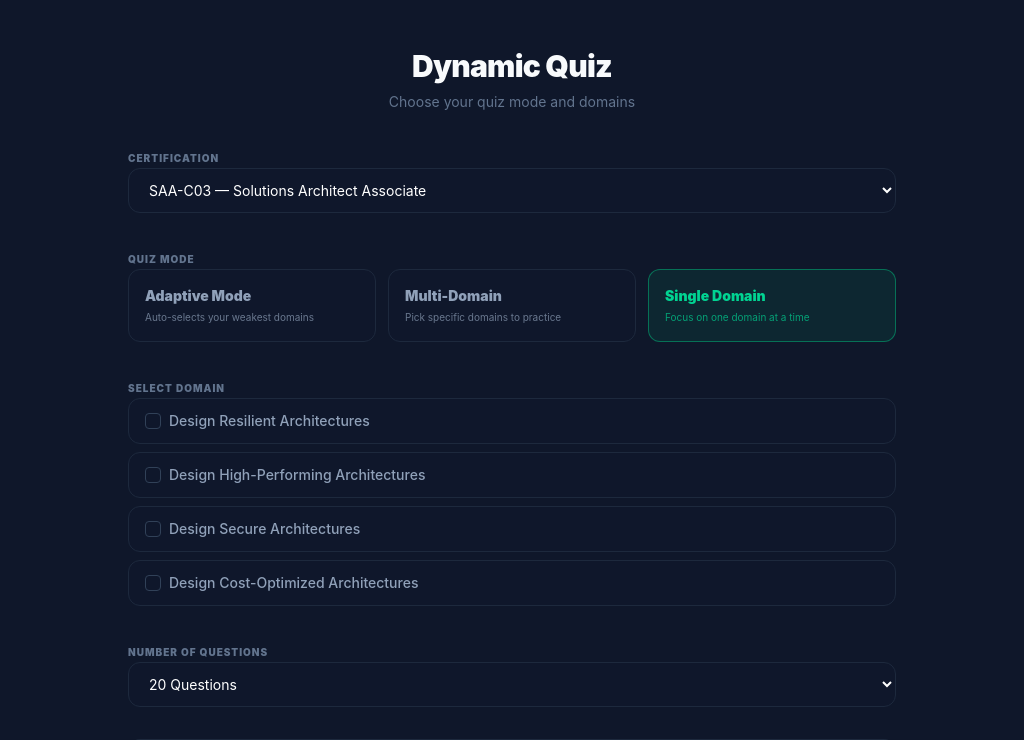
Test: DynamicQuiz - Adaptive Mode › Certification selector › allows changing certification and resets domain selection
The image size is (1024, 740).
Switch to multi-domain mode
Step 1. Click the button "Multi-Domain" → point(512, 306), box [388,269,636,342]
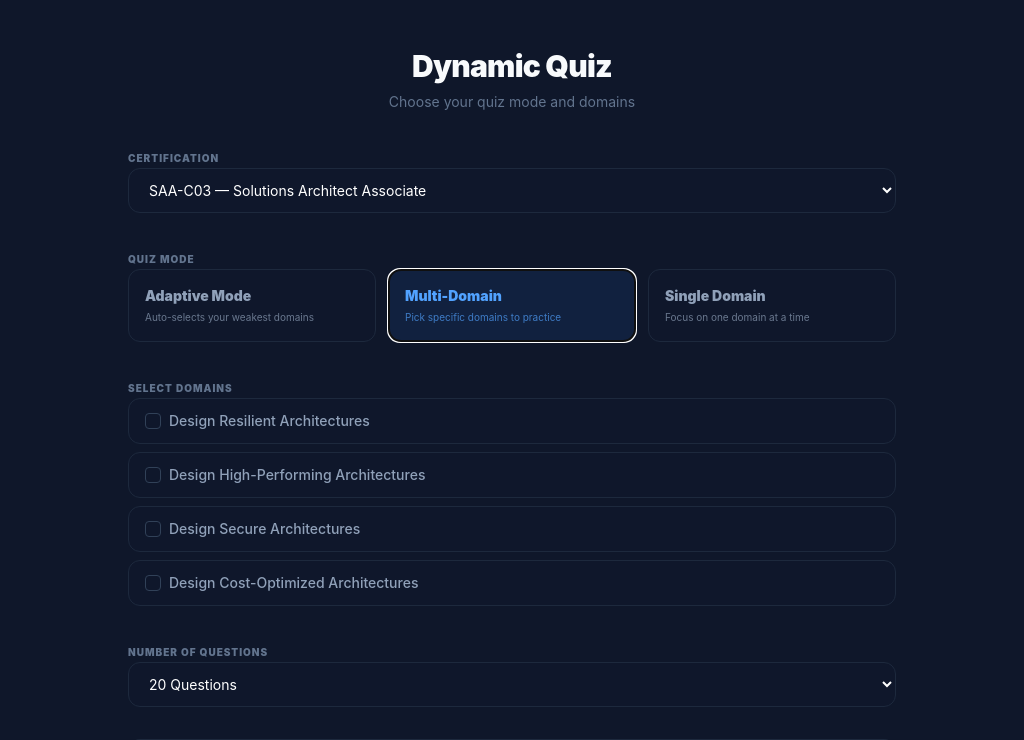
Select a domain
Step 2. Click the button "Design Resilient Architectures" → point(269, 420), box [128,398,896,444]
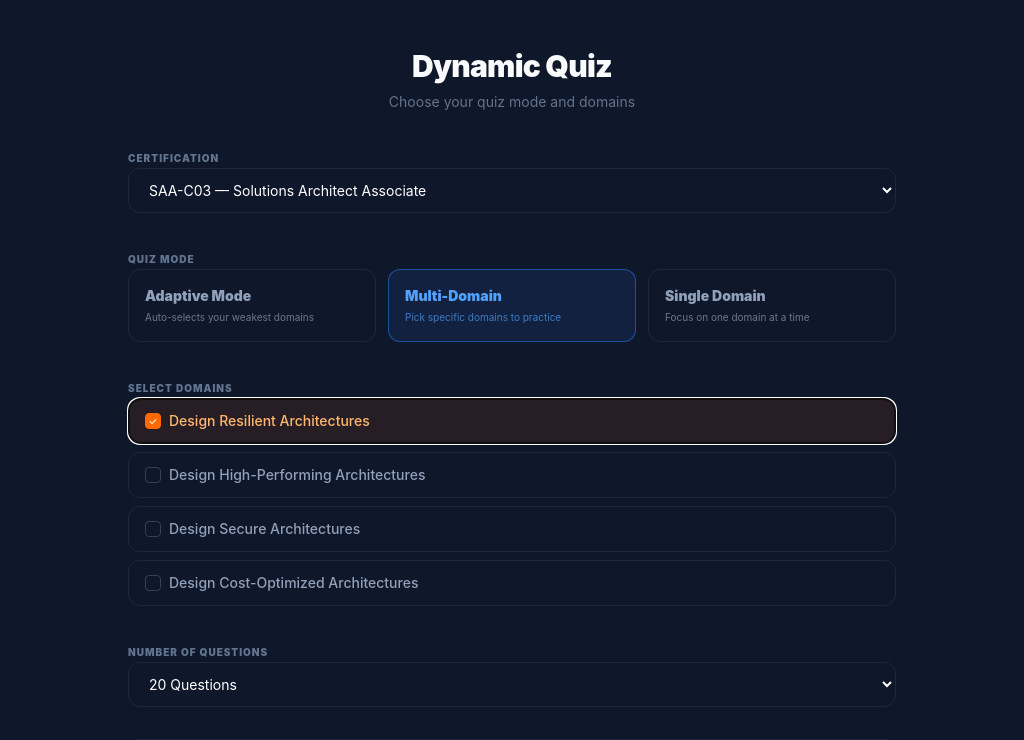
expect the button "✓ Design Resilient Architectures" has class "bg-orange-500/10": met, box [128,398,896,444]
Change certification
Step 3. Select "CLF-C02 — Cloud Practitioner" in the dropdown showing "SAA-C03" below "Certification" → point(512, 190), box [128,168,896,213]
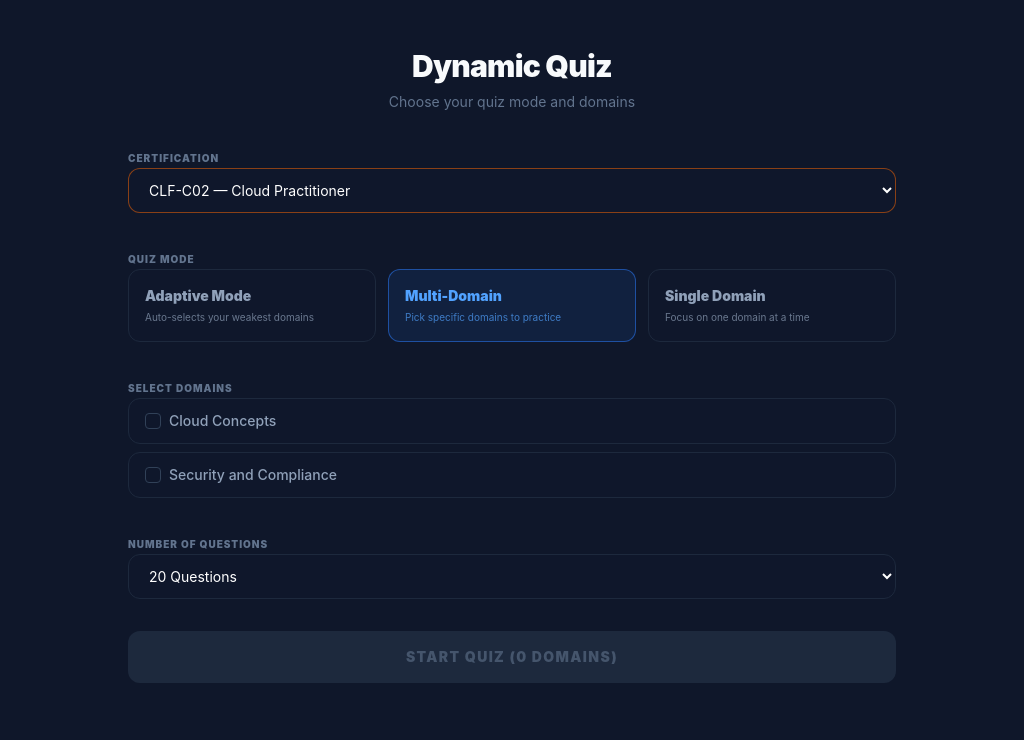
expect the text "Cloud Concepts" is shown: met, box [145,412,276,429]
expect the text "Security and Compliance" is shown: met, box [145,466,337,483]
expect the button "Design Resilient Architectures" is gone: met
